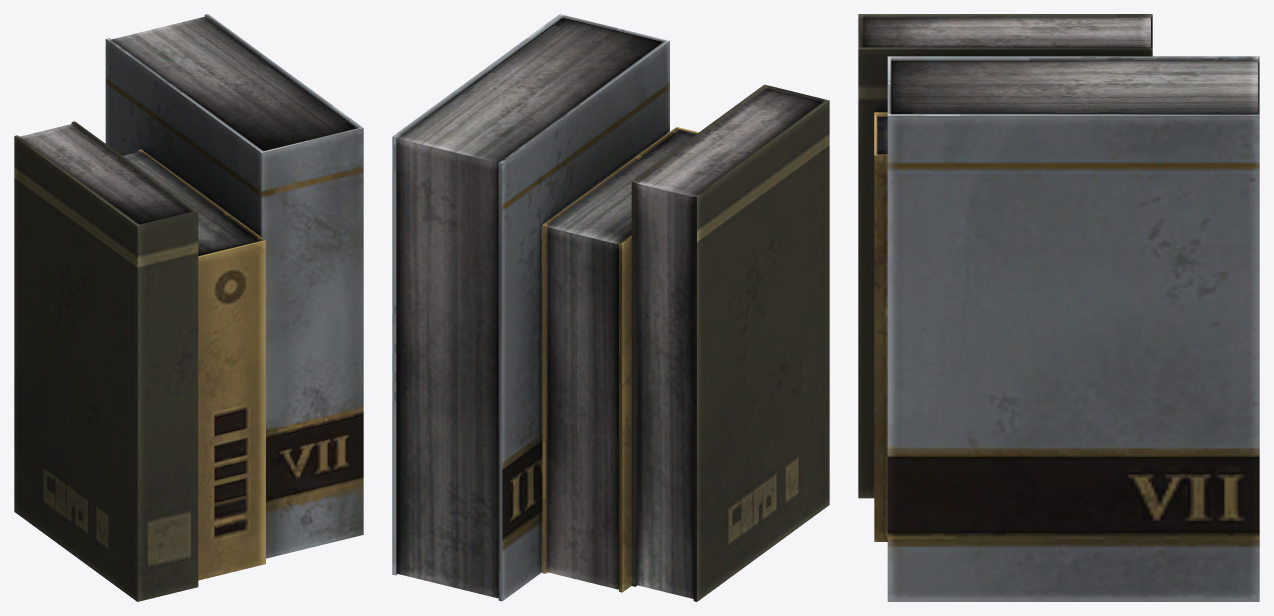
File: book_row04.dae
3 views of the same model, side by side, from view 1: azimuth 30°, elevation 25°; view 2: azimuth 150°, elevation 25°; view 3: azimuth 270°, elevation 25° (orthographic). The views are drawn at different scales.
Visible parts, largest first — view 1: book_row04; view 2: book_row04; view 3: book_row04.
Boxes of the visible parts, x1=… form: book_row04: x1=14, y1=14, x2=363, y2=601; book_row04: x1=392, y1=14, x2=829, y2=601; book_row04: x1=858, y1=14, x2=1259, y2=601.
Bounding box in the file's own units: 0.2153 × 0.3508 × 0.2627.
